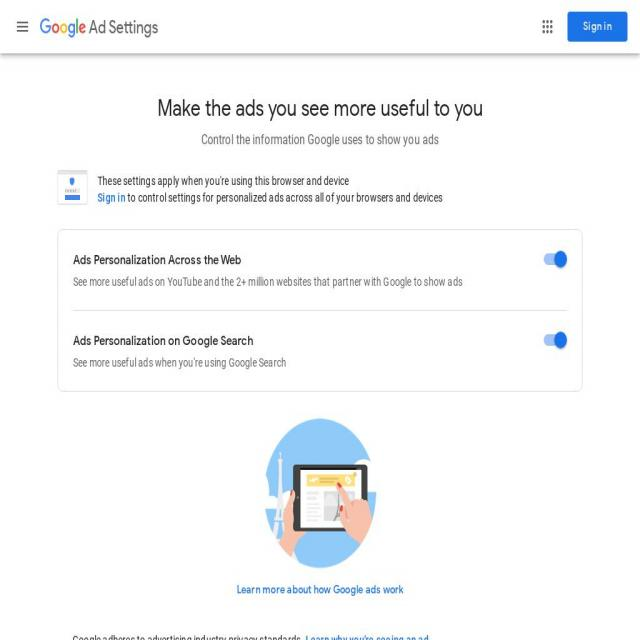filter: (54, 223, 594, 402)
login-option: (565, 10, 631, 42)
options: (13, 12, 36, 42), (538, 10, 556, 42)
